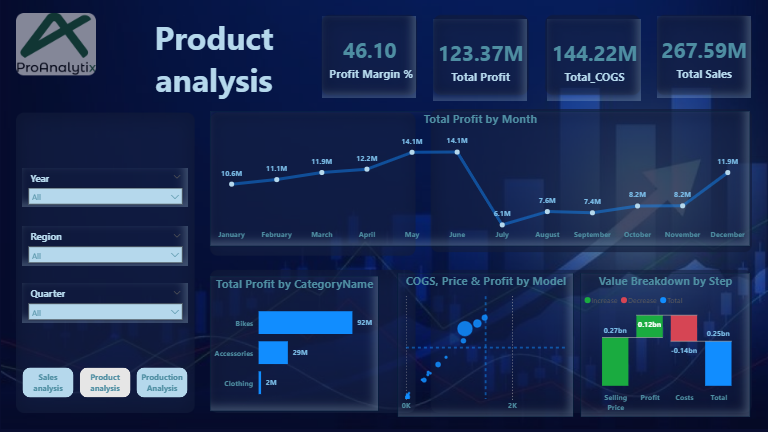

This screenshot's page, from the dashboard's own definition file:
{"tool":"powerbi","page":{"name":"Product analysis","canvas":[1280,720],"ordinal":1},"visuals":[{"type":"card","fields":{"Values":["_Measures_Sales Performance Analysise.Total Sales"]},"box":[1095,26.7,156.7,136.7],"z":0},{"type":"card","fields":{"Values":["_Product_Analysis_Measures.Total_COGS"]},"box":[911.7,31.7,156.7,136],"z":1000},{"type":"card","fields":{"Values":["_Product_Analysis_Measures.Total Profit"]},"box":[721.7,31.7,156.7,136.7],"z":2000},{"type":"card","fields":{"Values":["_Product_Analysis_Measures.Gross Profit Margin %"]},"box":[536.7,26.7,156.7,136.7],"z":3000},{"type":"waterfallChart","title":"Value Breakdown by Step","fields":{"Category":["WaterfallSteps.Step"],"Y":["WaterfallSteps.Waterfall Value"]},"box":[967.5,453.8,282.5,240],"z":4000},{"type":"lineChart","fields":{"Y":["_Product_Analysis_Measures.Total Profit"],"Category":["Fact_Sales.calendar.Date.Variation.Date Hierarchy.Month"]},"box":[350,185,900,225],"z":5000},{"type":"barChart","fields":{"Y":["_Product_Analysis_Measures.Total Profit"],"Category":["Fact_Sales.CategoryName","Fact_Sales.SubcategoryName"]},"box":[350,458.8,281.2,225],"z":6000},{"type":"scatterChart","title":"COGS, Price & Profit by Model","fields":{"X":["_Product_Analysis_Measures.COGS_PerUnit"],"Y":["_Product_Analysis_Measures.SellingPrice_PerUnit"],"Size":["_Product_Analysis_Measures.Total Profit"],"Category":["Fact_Sales.ModelName"]},"box":[662.5,453.8,293.8,240],"z":7000},{"type":"pageNavigator","box":[36.7,613.3,276.7,50],"z":8000},{"type":"slicer","fields":{"Values":["Fact_Sales.OrderDate.Variation.Date Hierarchy.Year"]},"box":[36.7,280,276.7,65],"z":8001},{"type":"slicer","fields":{"Values":["Fact_Sales.Region"]},"box":[36.7,376.7,276.7,65],"z":8002},{"type":"slicer","fields":{"Values":["Fact_Sales.OrderDate.Variation.Date Hierarchy.Quarter"]},"box":[36.7,473.3,276.7,65],"z":8003},{"type":"textbox","box":[213.3,20,288.3,165],"z":8004}]}

Visuals, with their boxes in screenshot pixels (x1, y1, x2, y2), scaled from the page's 1280x720 canvas onto the 768x432 screenshot:
card - _Measures_Sales Performance Analysise.Total Sales: locate(657, 16, 751, 98)
card - _Product_Analysis_Measures.Total_COGS: locate(547, 19, 641, 101)
card - _Product_Analysis_Measures.Total Profit: locate(433, 19, 527, 101)
card - _Product_Analysis_Measures.Gross Profit Margin %: locate(322, 16, 416, 98)
"Value Breakdown by Step" waterfallChart: locate(580, 272, 750, 416)
lineChart - _Product_Analysis_Measures.Total Profit x Fact_Sales.calendar.Date.Variation.Date Hierarchy.Month: locate(210, 111, 750, 246)
barChart - _Product_Analysis_Measures.Total Profit x Fact_Sales.CategoryName: locate(210, 275, 379, 410)
"COGS, Price & Profit by Model" scatterChart: locate(398, 272, 574, 416)
pageNavigator: locate(22, 368, 188, 398)
slicer - Fact_Sales.OrderDate.Variation.Date Hierarchy.Year: locate(22, 168, 188, 207)
slicer - Fact_Sales.Region: locate(22, 226, 188, 265)
slicer - Fact_Sales.OrderDate.Variation.Date Hierarchy.Quarter: locate(22, 284, 188, 323)
textbox: locate(128, 12, 301, 111)
